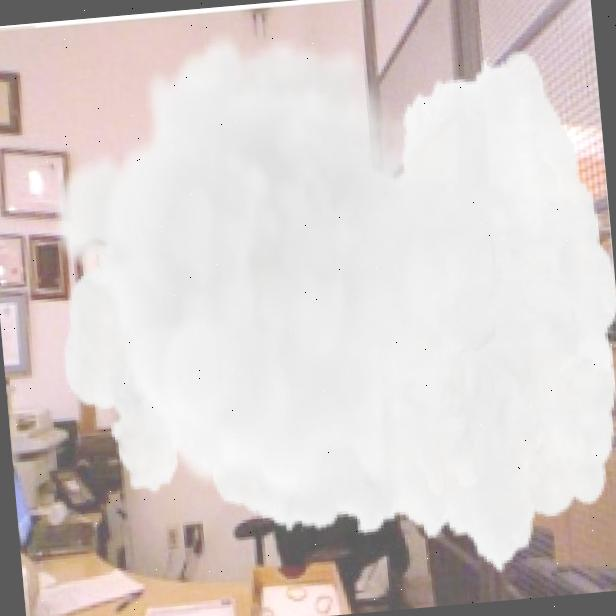smoke: (34, 0, 616, 611)
